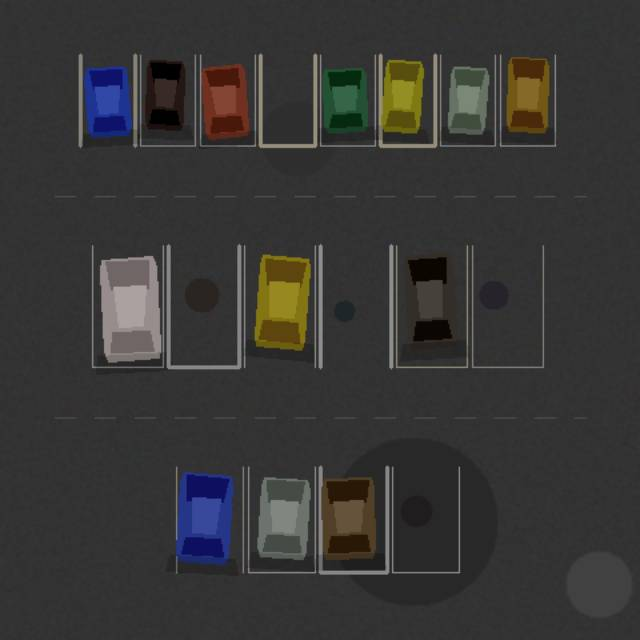space-empty: (168, 245, 239, 367), (320, 245, 391, 367), (472, 245, 543, 367), (392, 467, 459, 572), (260, 55, 315, 145)
space-occupied: (92, 245, 163, 367), (244, 245, 315, 367), (396, 245, 467, 367), (176, 467, 243, 572), (248, 467, 315, 572), (320, 467, 387, 572), (80, 55, 135, 145), (140, 55, 195, 145), (200, 55, 255, 145), (320, 55, 375, 145), (380, 55, 435, 145), (440, 55, 495, 145), (500, 55, 555, 145)
